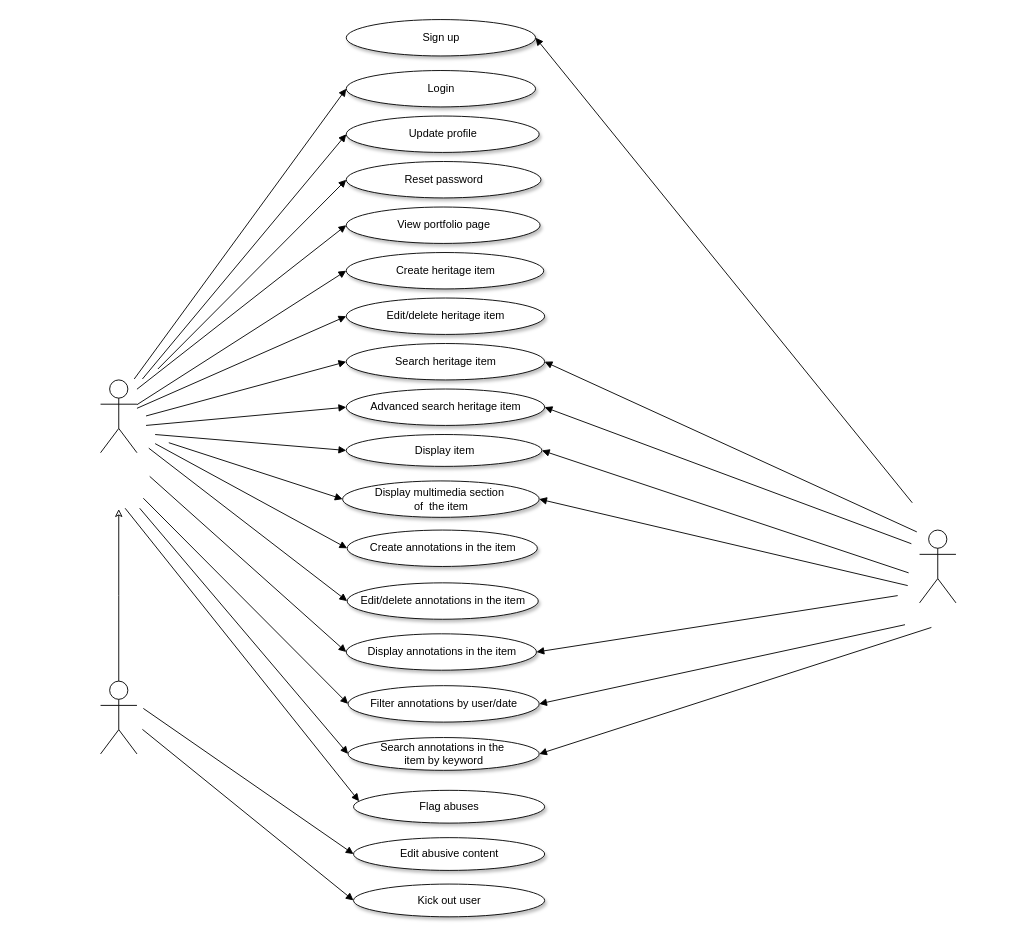
This 1028x939 diagram has some shape labels left out. The shapes that lost their labels are listed below. From the top down, each one's centre as x and y in pixels, then its label:
the point at 118,416: Registered / Authenticated User
the point at 937,566: Not registered user
the point at 118,717: Moderator
